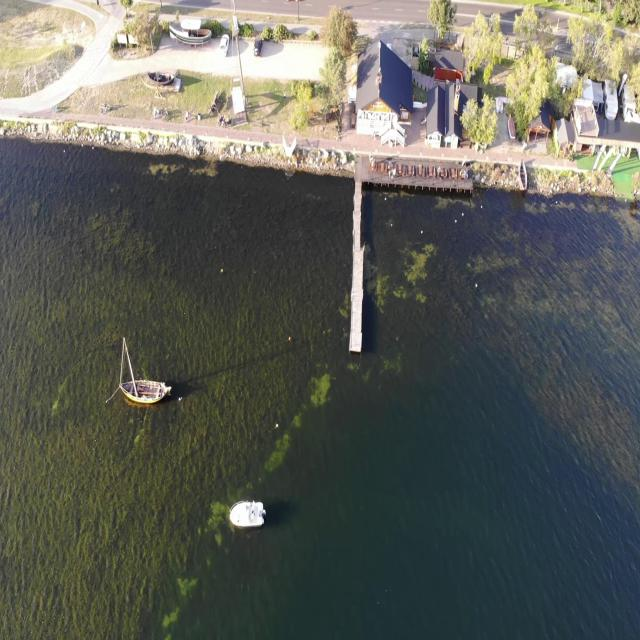boat: (226, 494, 268, 534)
sailboat: (118, 333, 170, 407)
